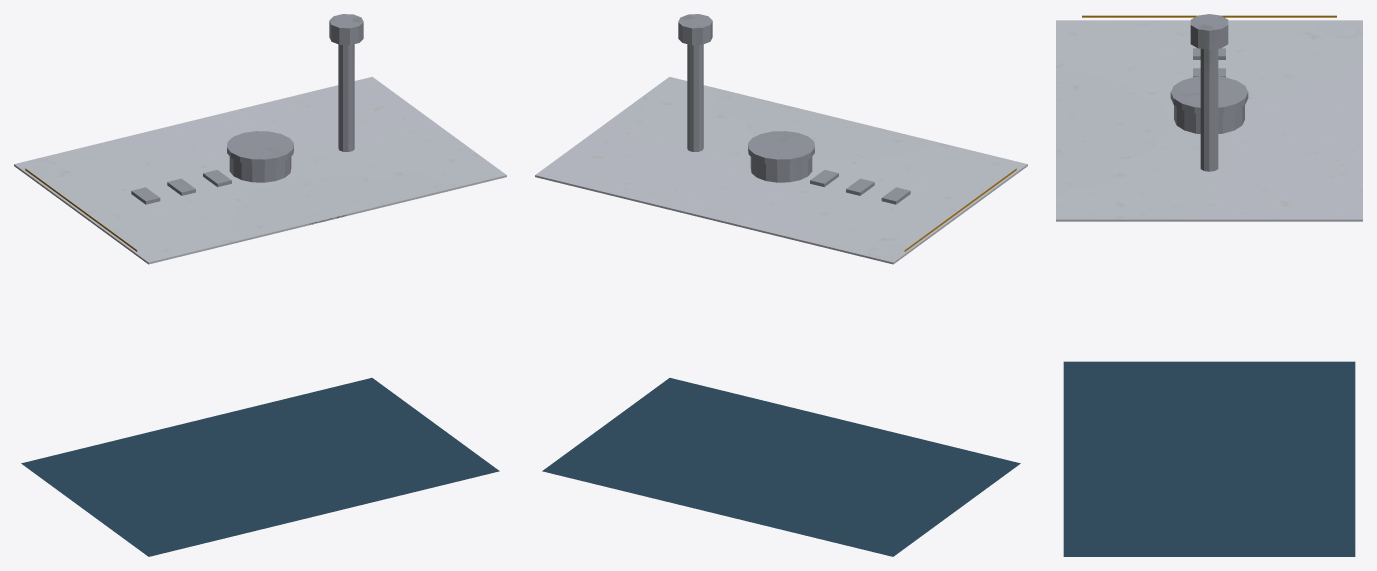
The model's file is module-tank.glb.
The picture shows the model from 3 angles, left to right: view 1: azimuth 30°, elevation 25°; view 2: azimuth 150°, elevation 25°; view 3: azimuth 270°, elevation 25°; orthographic projection. The views are drawn at different scales.
Visible parts, largest first — view 1: compartment__cargo_fill, compartment__coaming, compartment__tank_fittings; view 2: compartment__cargo_fill, compartment__coaming, compartment__tank_fittings; view 3: compartment__cargo_fill, compartment__coaming, compartment__tank_fittings, compartment__compartment_progress.
Part boxes in pixels (x1=…): compartment__cargo_fill: x1=21, y1=378, x2=499, y2=556; compartment__coaming: x1=14, y1=76, x2=506, y2=264; compartment__tank_fittings: x1=131, y1=14, x2=363, y2=204; compartment__cargo_fill: x1=542, y1=378, x2=1020, y2=556; compartment__coaming: x1=535, y1=76, x2=1027, y2=264; compartment__tank_fittings: x1=678, y1=14, x2=910, y2=204; compartment__cargo_fill: x1=1063, y1=361, x2=1355, y2=556; compartment__coaming: x1=1056, y1=20, x2=1362, y2=221; compartment__tank_fittings: x1=1170, y1=14, x2=1248, y2=171; compartment__compartment_progress: x1=1082, y1=15, x2=1336, y2=17.
Size of the model in its own units: 1 by 1.13 by 0.65.
5 materials, 5 textured.
